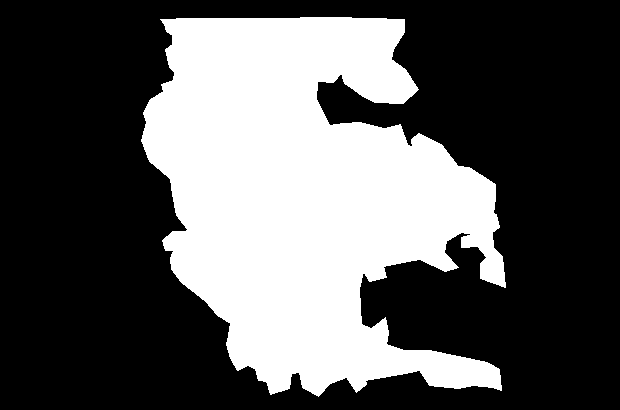type2: (139, 15, 514, 399)
